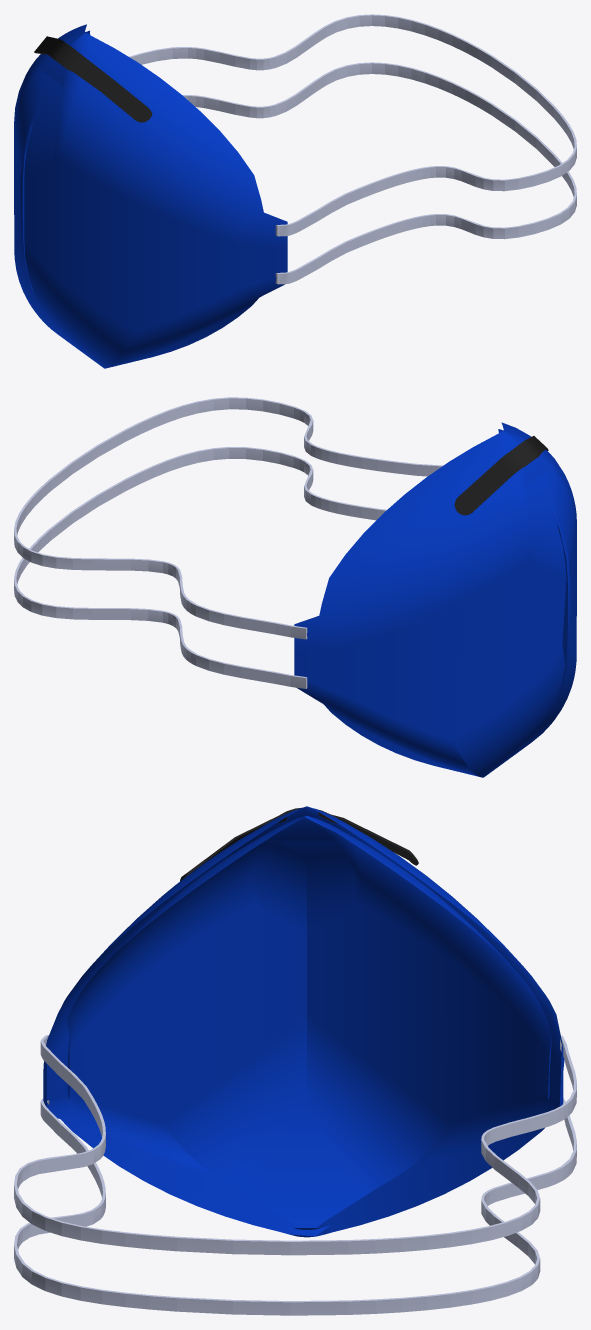
The model's file is marcara FFP2.FBX.
3 renders of one model, top to bottom at view 1: azimuth 30°, elevation 25°; view 2: azimuth 150°, elevation 25°; view 3: azimuth 270°, elevation 25°, orthographic. The views are drawn at different scales.
Visible parts, largest first — view 1: Shell2, Boss-Extrude1, Boss-Extrude002, Fillet1; view 2: Shell2, Boss-Extrude1, Boss-Extrude002, Fillet1; view 3: Shell2, Boss-Extrude1, Boss-Extrude002, Fillet1.
Boxes of the visible parts, x1=… form: Shell2: x1=14, y1=24, x2=287, y2=368; Boss-Extrude1: x1=129, y1=14, x2=576, y2=236; Boss-Extrude002: x1=182, y1=62, x2=576, y2=284; Fillet1: x1=34, y1=36, x2=152, y2=122; Shell2: x1=294, y1=422, x2=576, y2=777; Boss-Extrude1: x1=14, y1=397, x2=443, y2=639; Boss-Extrude002: x1=14, y1=447, x2=386, y2=688; Fillet1: x1=454, y1=436, x2=548, y2=515; Shell2: x1=43, y1=806, x2=564, y2=1237; Boss-Extrude1: x1=14, y1=1035, x2=576, y2=1255; Boss-Extrude002: x1=14, y1=1098, x2=576, y2=1315; Fillet1: x1=180, y1=807, x2=418, y2=880.
Bounding box in the file's own units: 6.5 × 4.25 × 5.15.
